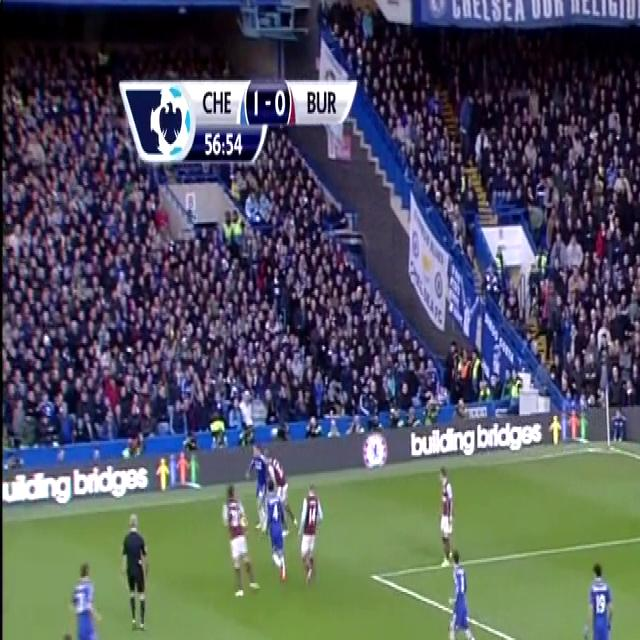referee: (118, 503, 158, 636)
soccer-player: (220, 483, 265, 609), (436, 542, 487, 640), (291, 480, 327, 593), (64, 551, 106, 640), (578, 553, 620, 640), (250, 435, 283, 532), (432, 459, 460, 568), (266, 486, 292, 590), (33, 626, 90, 640)
